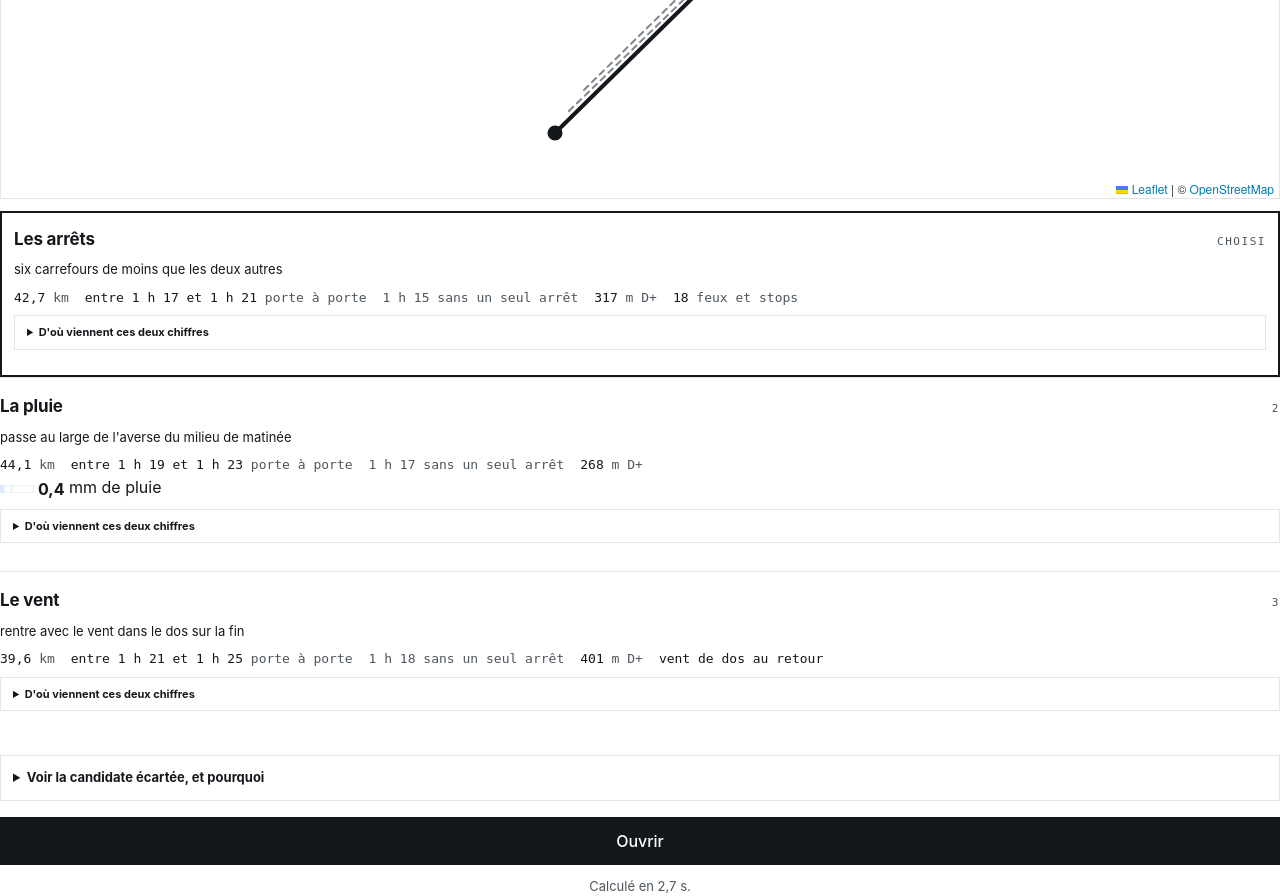
Test: le panneau ouvert › dit pourquoi dans les termes qui décident — le pourcentage et la boucle
(page scrolled)
Click the heading "Voir la candidate écartée, et pourquoi" at (146, 777), box [27,769,264,785]
(page scrolled)
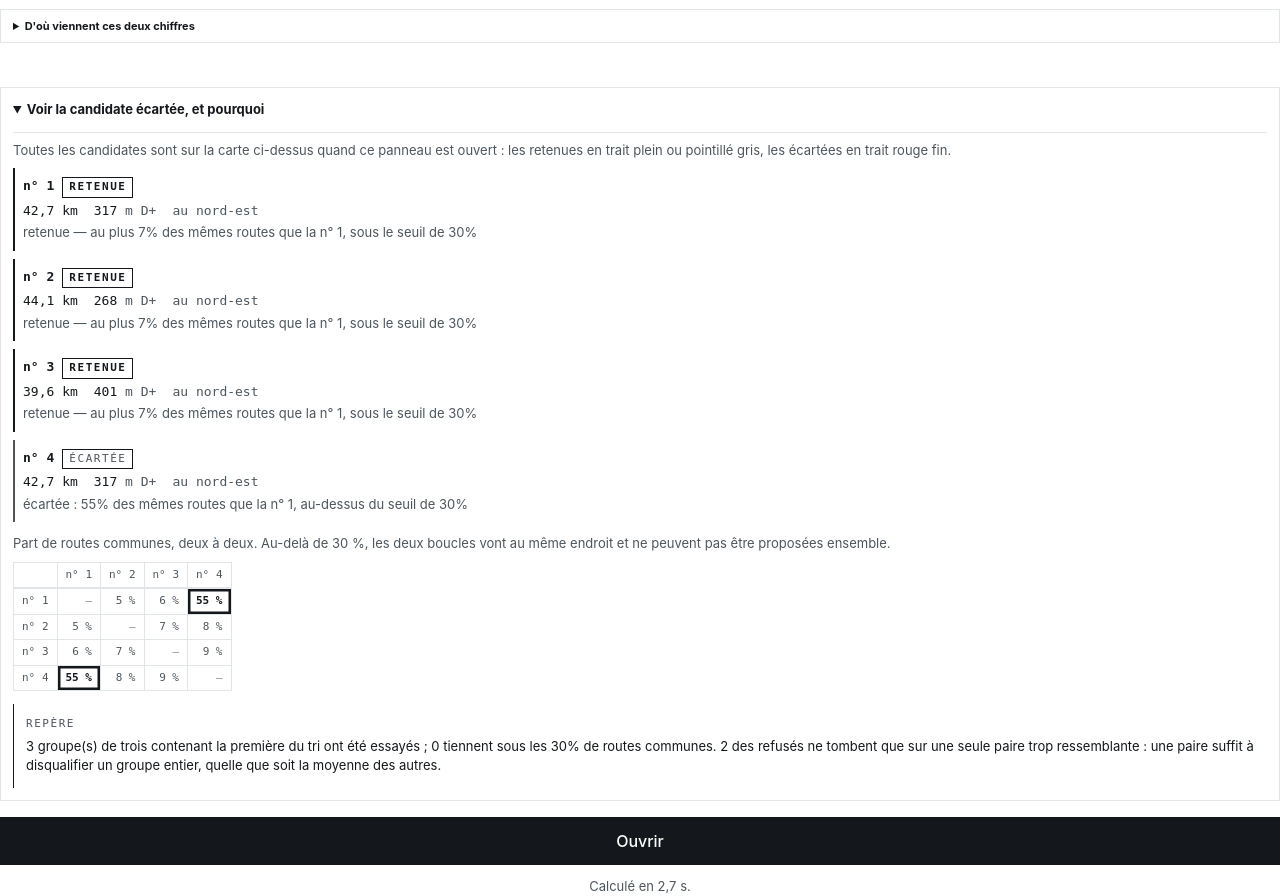
Check: the text "55% des mêmes routes que la n° 1, au-dessus du seuil de 30%" is shown, box [23,496,468,512]
